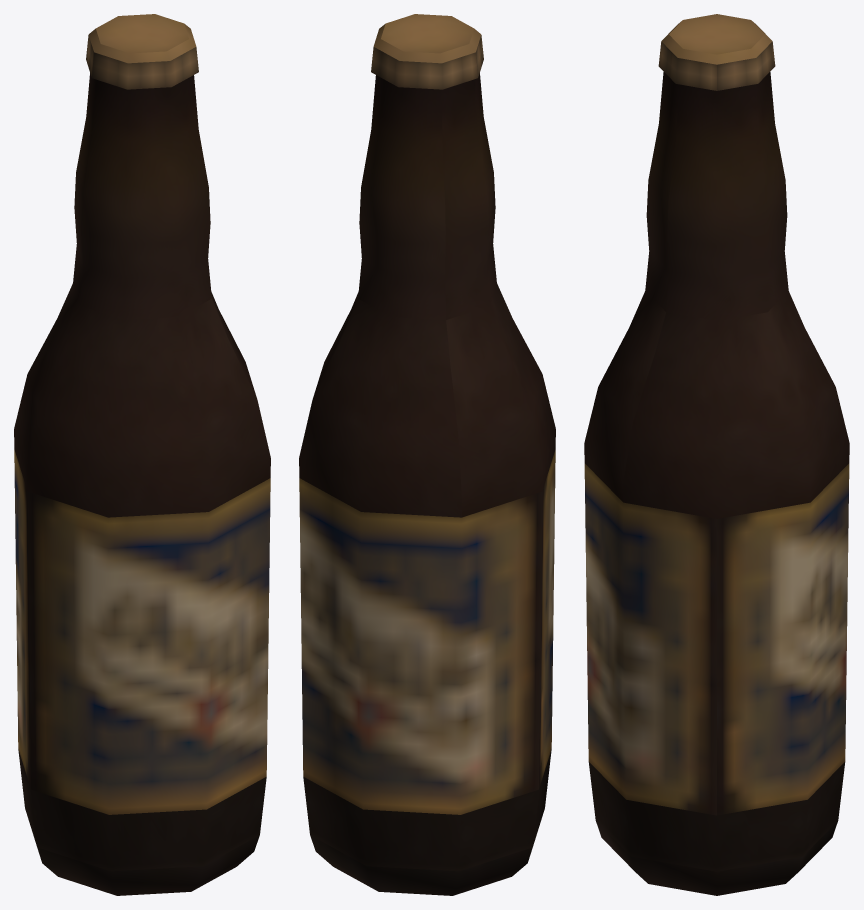
The model's file is glass_bottle_1.obj.
3 views of the same model, side by side, from view 1: azimuth 30°, elevation 25°; view 2: azimuth 150°, elevation 25°; view 3: azimuth 270°, elevation 25° (orthographic).
Parts seen in each view (by area): view 1: glass_bottle_1; view 2: glass_bottle_1; view 3: glass_bottle_1.
Boxes of the visible parts, <box> form: glass_bottle_1: <box>14,14,270,895</box>; glass_bottle_1: <box>299,14,555,895</box>; glass_bottle_1: <box>584,14,849,895</box>.
Size of the model in its own units: 0.1037 by 0.3538 by 0.1037.
